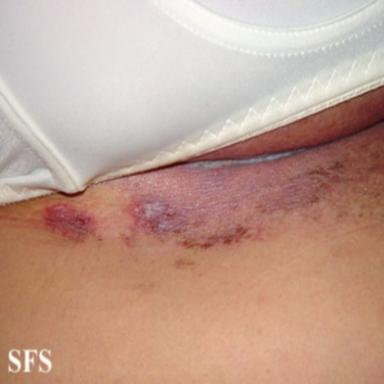Hailey-Hailey-Disease: (126, 194, 265, 250), (267, 161, 357, 209), (40, 201, 100, 245)
